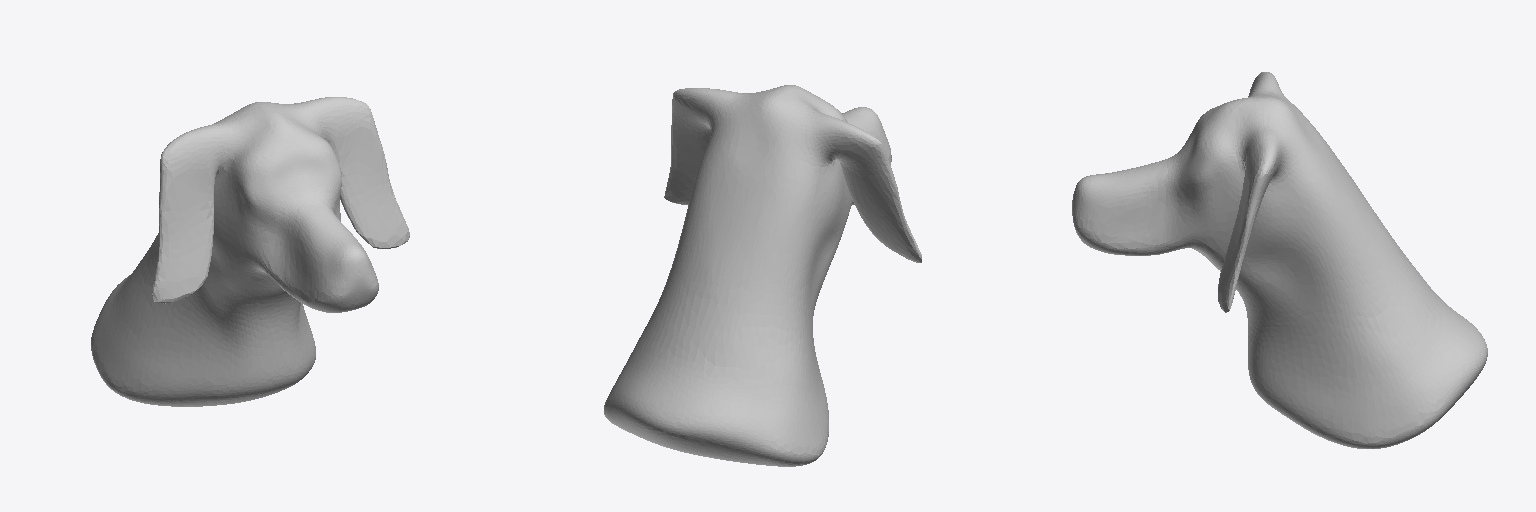
File: ours.obj
The picture shows the model from 3 angles: view 1: azimuth 30°, elevation 25°; view 2: azimuth 150°, elevation 25°; view 3: azimuth 270°, elevation 25°; orthographic projection.
Bounding box in the file's own units: 3.5 × 4.06 × 4.89.